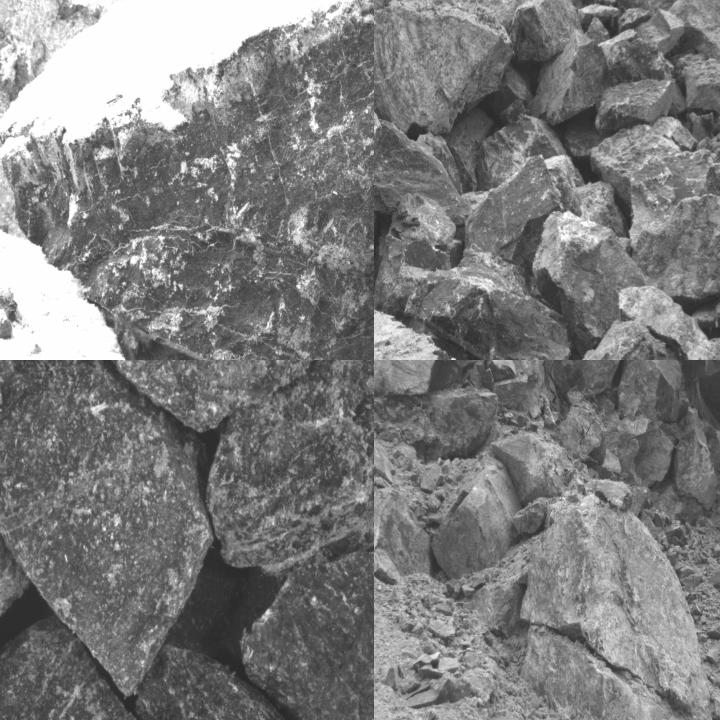stone: (0, 0, 373, 359), (0, 360, 215, 696), (522, 501, 714, 719), (207, 360, 373, 583), (0, 615, 241, 719), (18, 360, 349, 431), (241, 554, 373, 719), (374, 0, 513, 136), (513, 626, 685, 719), (403, 265, 571, 359), (135, 641, 328, 719), (531, 210, 636, 352), (591, 121, 707, 241), (431, 460, 521, 579), (463, 158, 562, 264), (374, 193, 459, 314), (374, 122, 475, 221), (632, 191, 719, 301), (616, 286, 715, 358), (533, 35, 611, 124), (475, 122, 565, 192), (520, 317, 661, 359), (494, 433, 576, 502), (596, 76, 676, 133), (673, 407, 717, 510), (515, 0, 582, 63), (471, 572, 526, 640), (673, 0, 719, 75), (606, 40, 674, 82), (679, 54, 719, 115), (637, 8, 688, 55), (374, 408, 395, 487), (588, 478, 633, 510), (512, 500, 550, 536), (611, 0, 698, 14), (602, 449, 622, 473)
